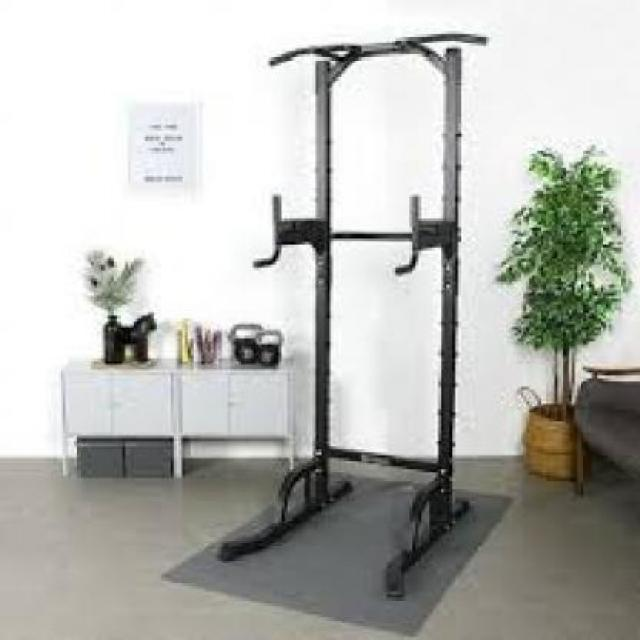chinning dipping: (252, 31, 492, 604)
